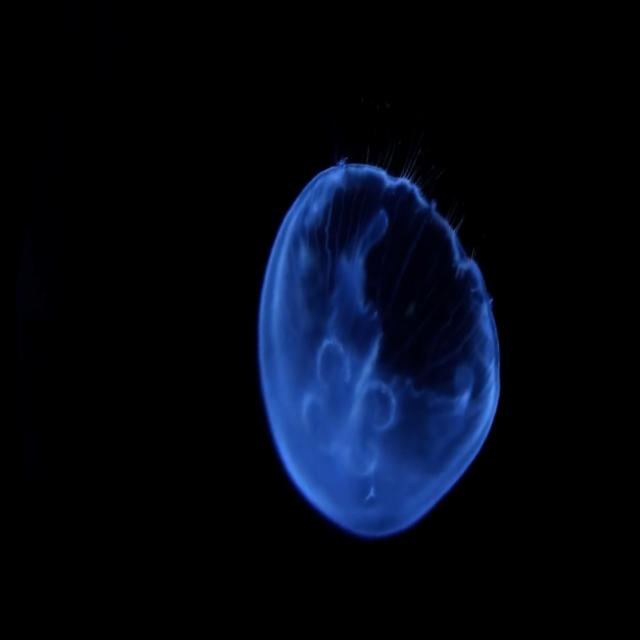Moon-jellyfish: (252, 166, 494, 540)
